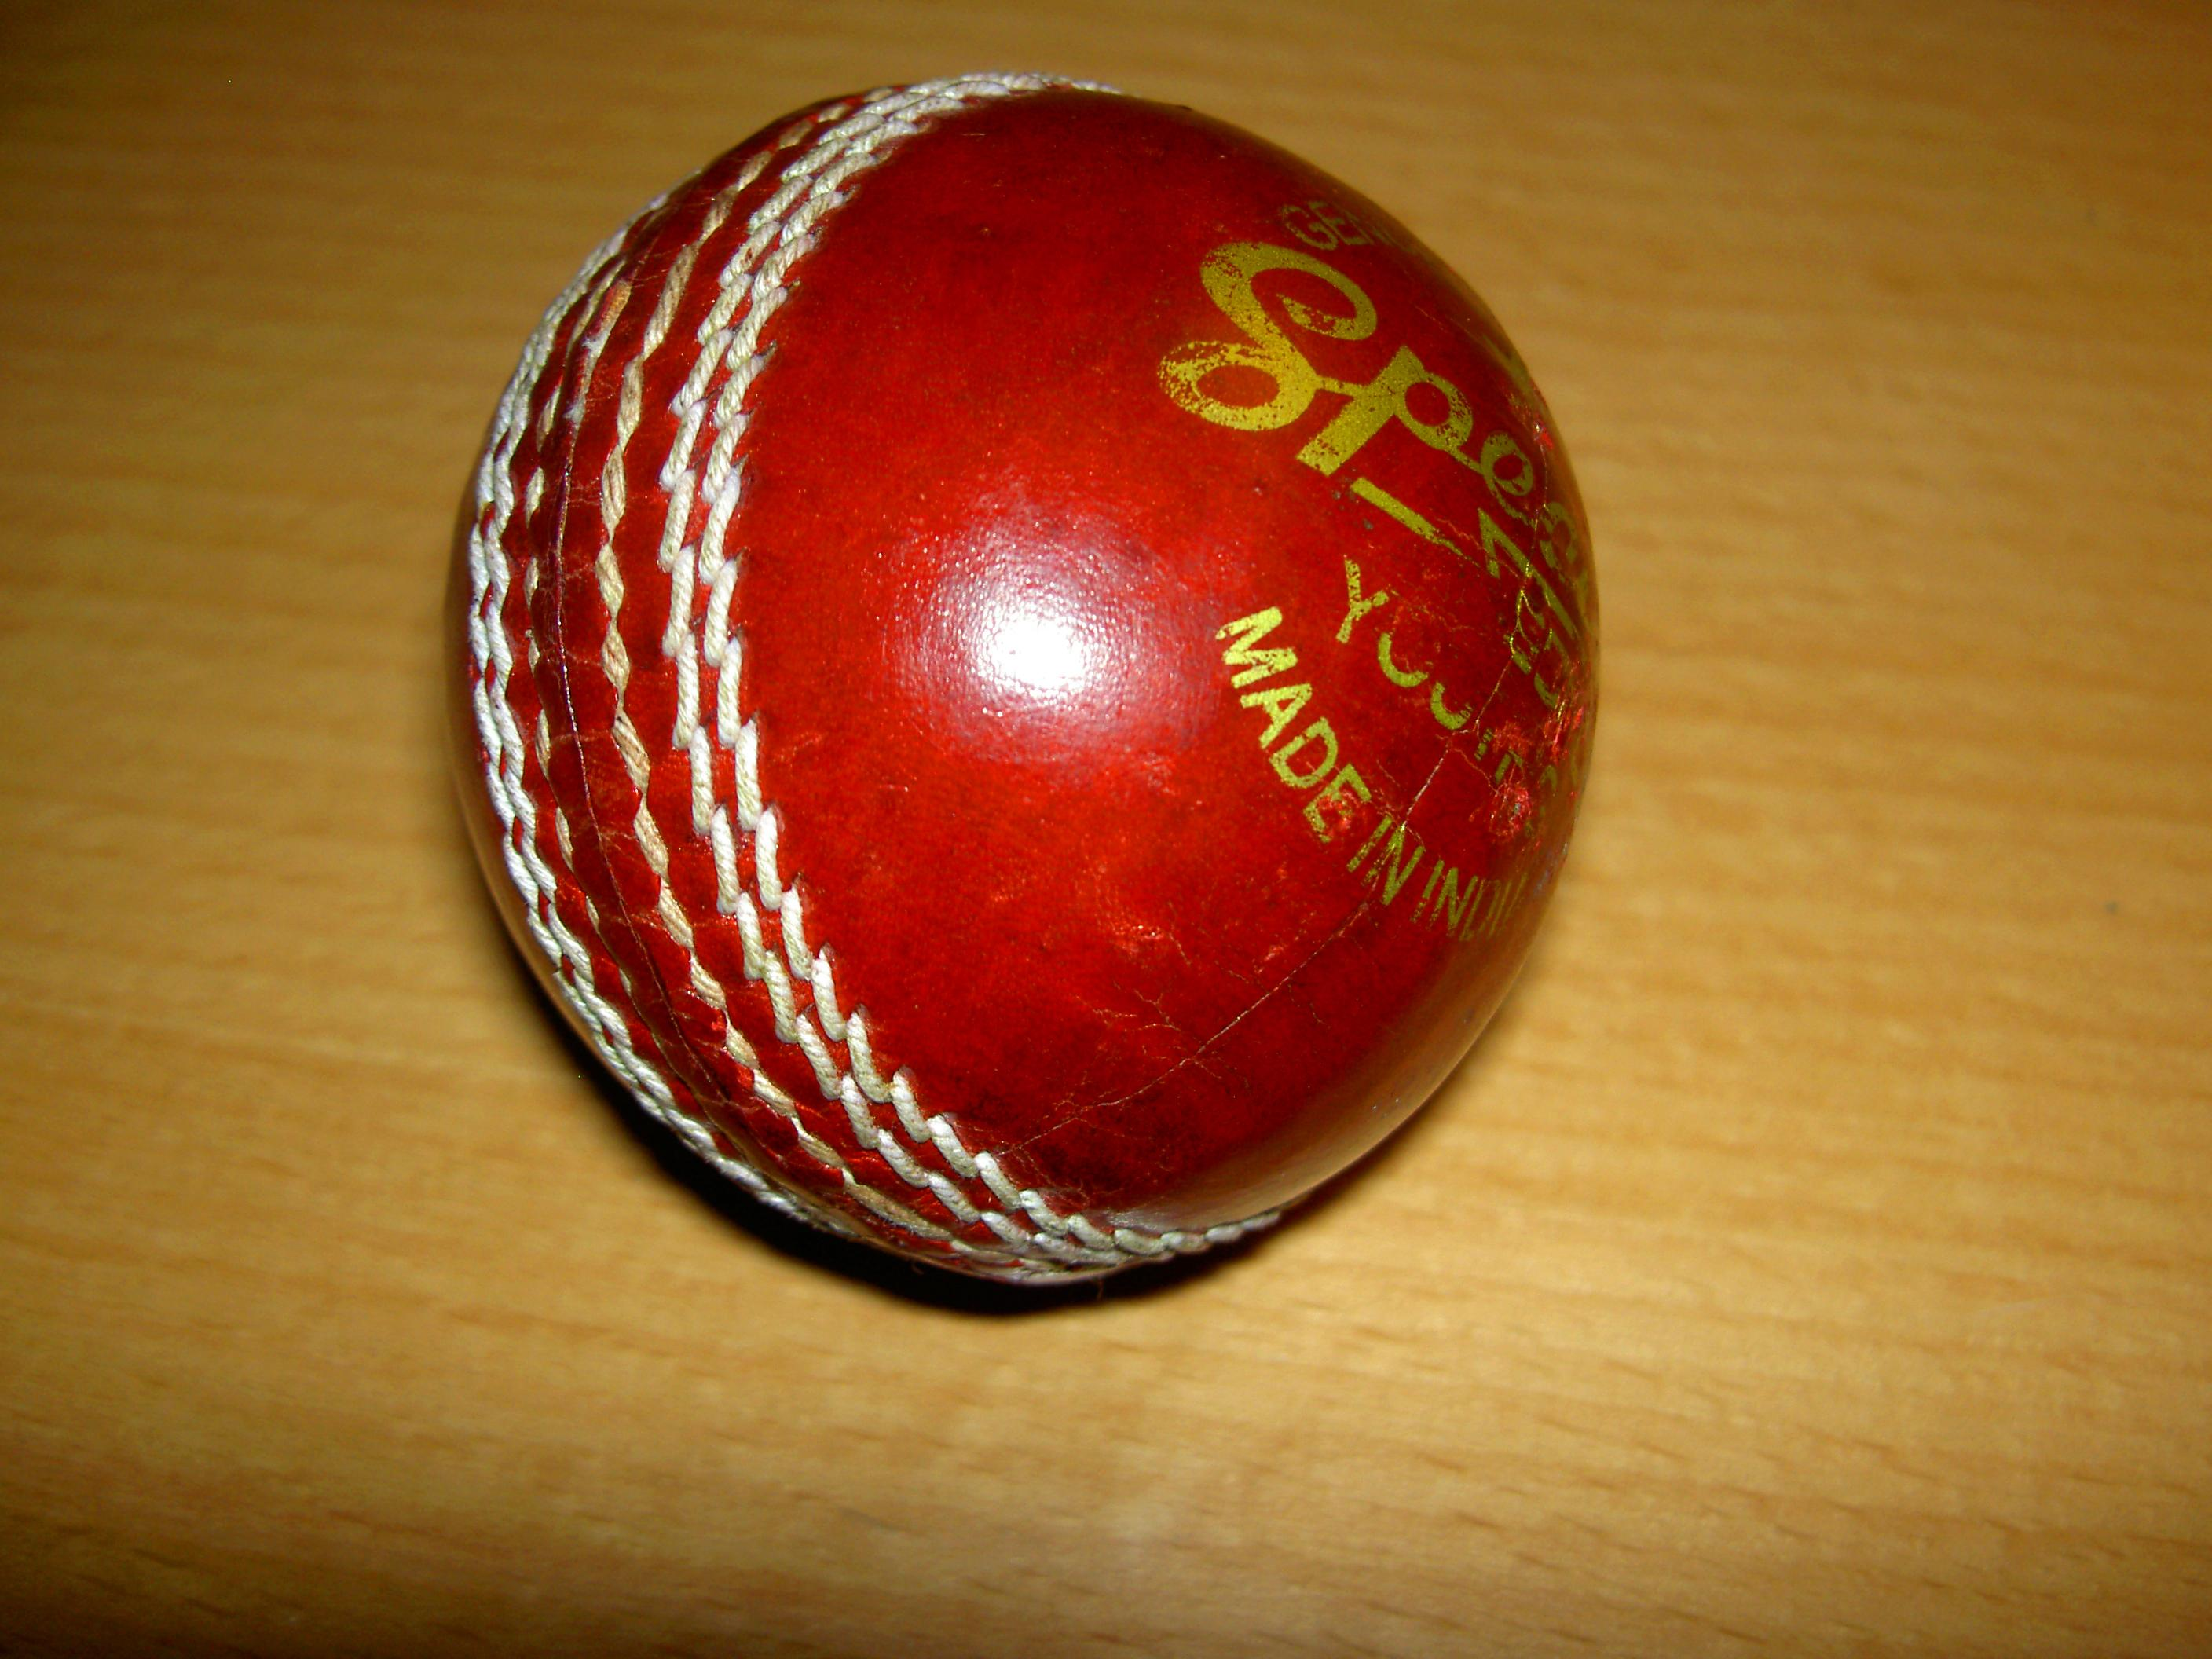Red_Ball: (373, 63, 1644, 1317)
